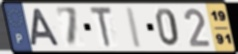0: (154, 7, 181, 48)
2: (183, 7, 213, 48)
7: (54, 6, 80, 49)
A: (30, 8, 62, 48)
I: (124, 6, 144, 49)
T: (88, 6, 114, 50)
